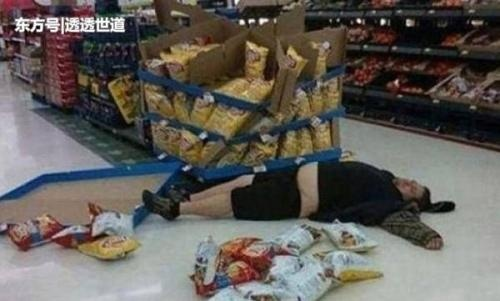falling: (136, 147, 464, 246)
